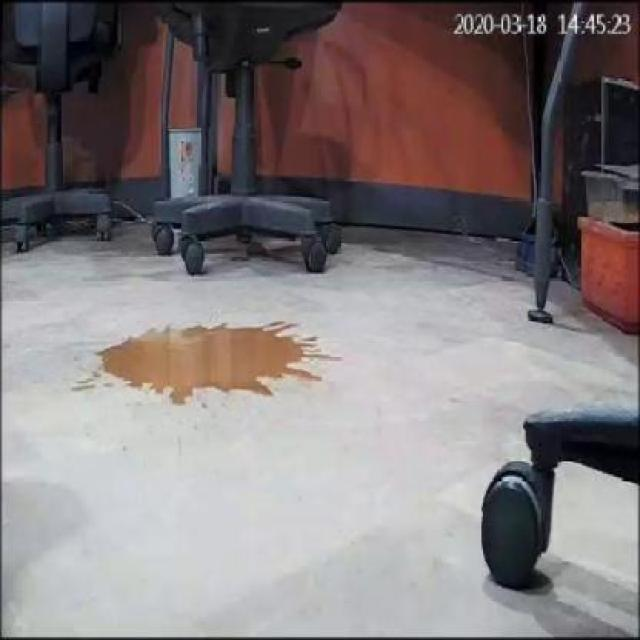spillage: (99, 324, 308, 403)
